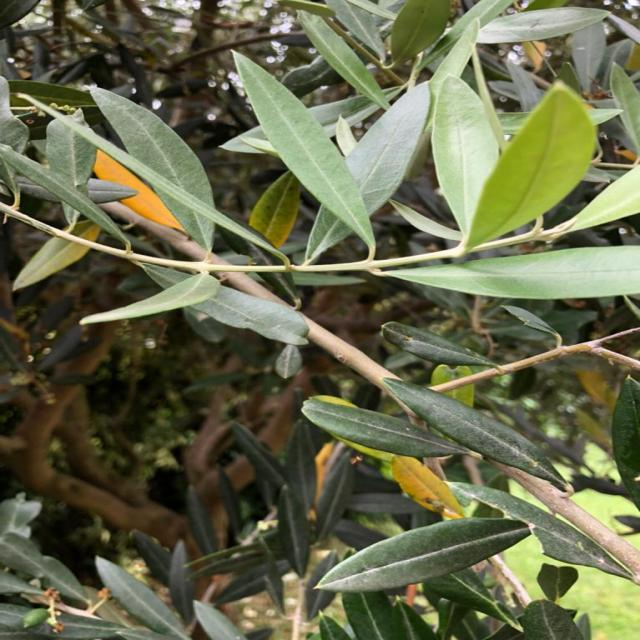Healthy: (236, 59, 364, 263), (467, 83, 595, 249), (316, 518, 530, 592), (302, 398, 460, 456)
Peacock Eye: (391, 457, 463, 517)
